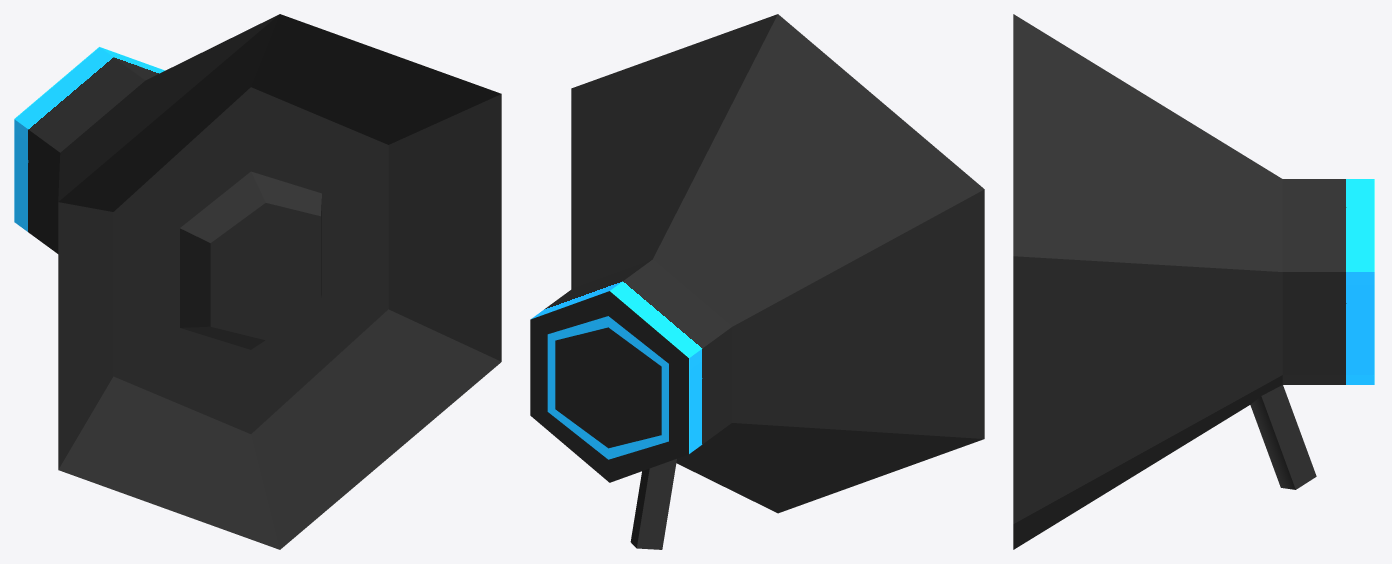
File: megaphone.fbx
The picture shows the model from 3 angles, left to right: view 1: azimuth 30°, elevation 25°; view 2: azimuth 150°, elevation 25°; view 3: azimuth 270°, elevation 25°; orthographic projection. The views are drawn at different scales.
Visible parts, largest first — view 1: Megaphone, MegaPower; view 2: Megaphone, MegaPower; view 3: Megaphone.
Boxes of the visible parts, x1,y1,x2,y2 form: Megaphone: (14,14,501,549); MegaPower: (140,120,373,412); Megaphone: (530,14,984,549); MegaPower: (547,316,668,459); Megaphone: (1013,14,1374,549).
Bounding box in the file's own units: 35.41 × 40.89 × 25.17.
